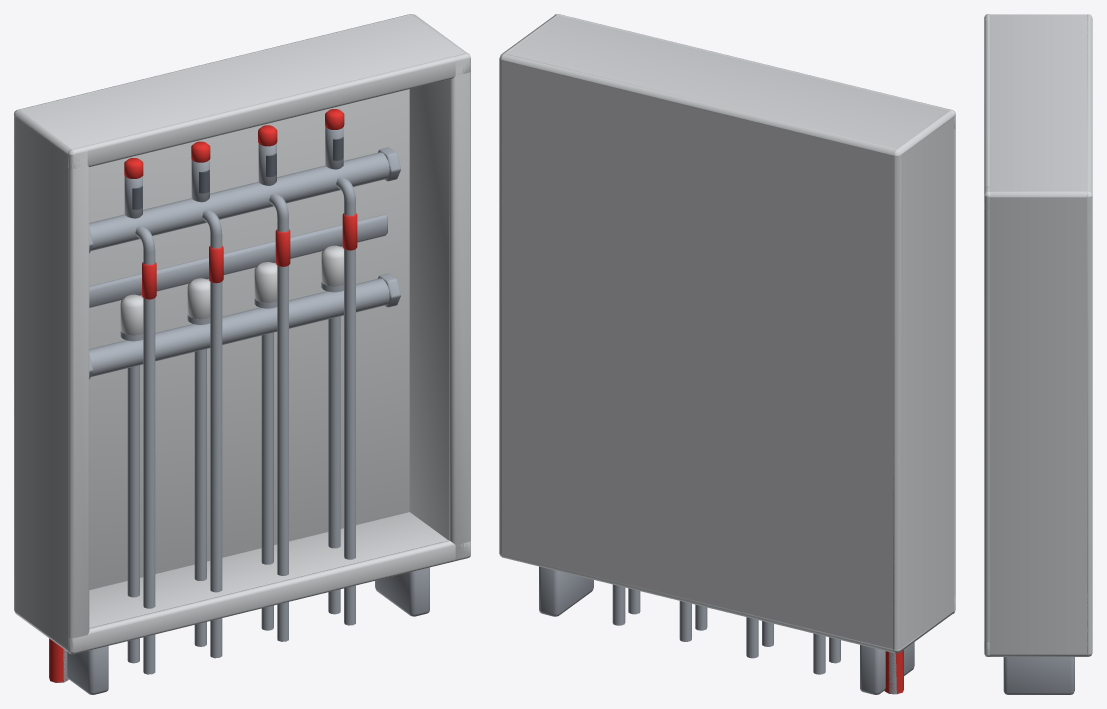
The model's file is heizung.fbh_kreis.glb.
3 views of the same model, side by side, from view 1: azimuth 30°, elevation 25°; view 2: azimuth 150°, elevation 25°; view 3: azimuth 270°, elevation 25° (orthographic). The views are drawn at different scales.
Visible parts, largest first — view 1: heizung.fbh_kreis; view 2: heizung.fbh_kreis; view 3: heizung.fbh_kreis.
Boxes of the visible parts, box(x1,y1,x2,y2) form: heizung.fbh_kreis: box(14, 14, 470, 694); heizung.fbh_kreis: box(499, 14, 955, 694); heizung.fbh_kreis: box(984, 14, 1092, 694).
Size of the model in its own units: 0.6 by 0.8 by 0.152.
